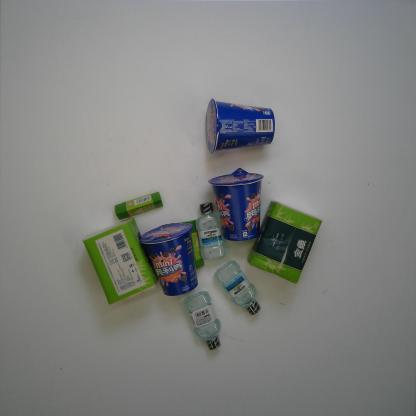Dessert: (139, 222, 199, 297), (207, 168, 265, 242), (205, 97, 276, 155)
Personal Hygiene: (214, 260, 261, 315), (182, 290, 222, 351), (195, 202, 228, 260)
Stationery: (114, 191, 164, 221), (181, 218, 204, 270)
Tissue: (82, 216, 158, 305), (246, 199, 323, 285)
